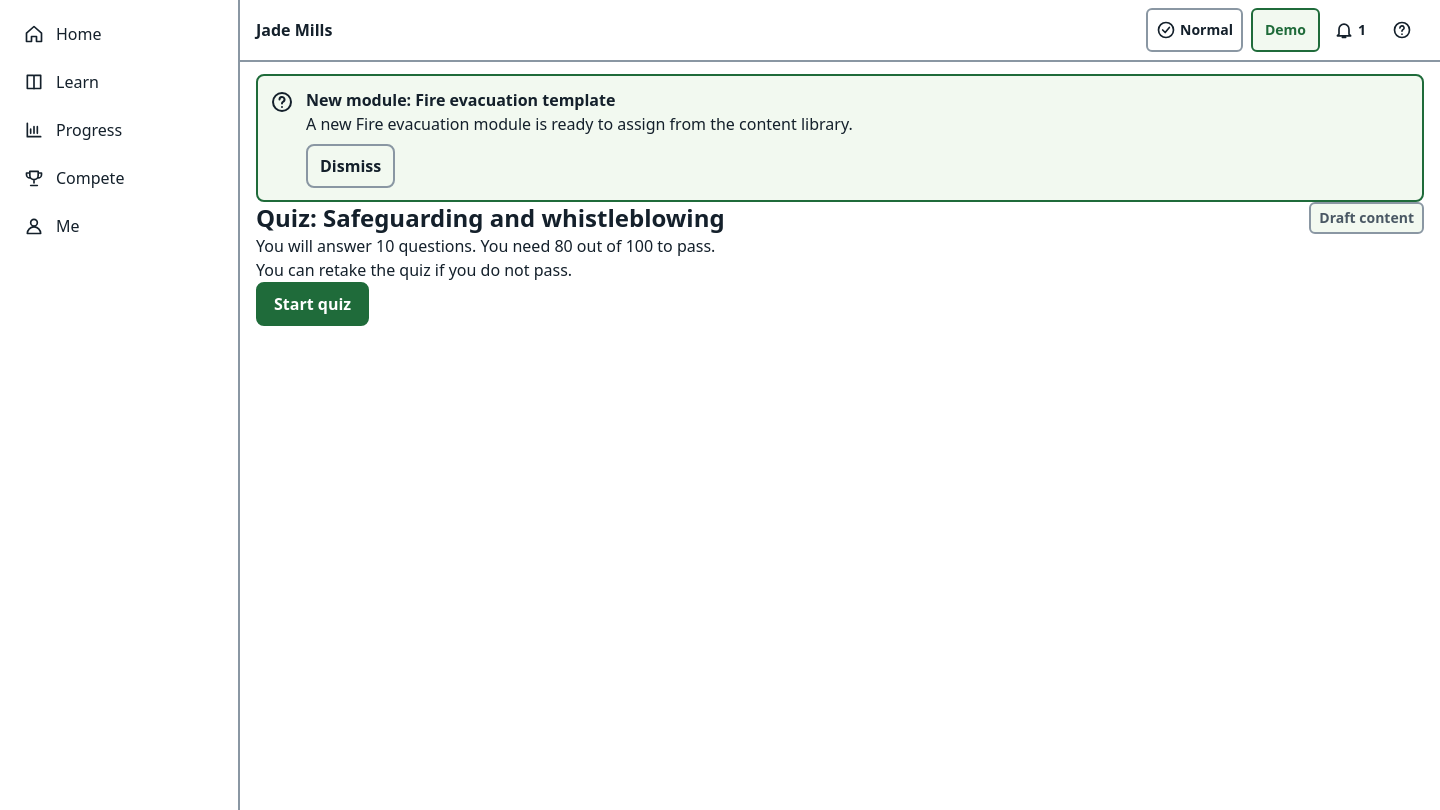
Test: S6 quiz › starts an attempt that draws 10 questions and shows Question 1 of 10 with the Draft content badge
The image size is (1440, 810).
Expected: the text "Draft content" is shown, [1309,202,1424,234]
Click the button "Start quiz" at (313, 304), box [256,282,369,326]
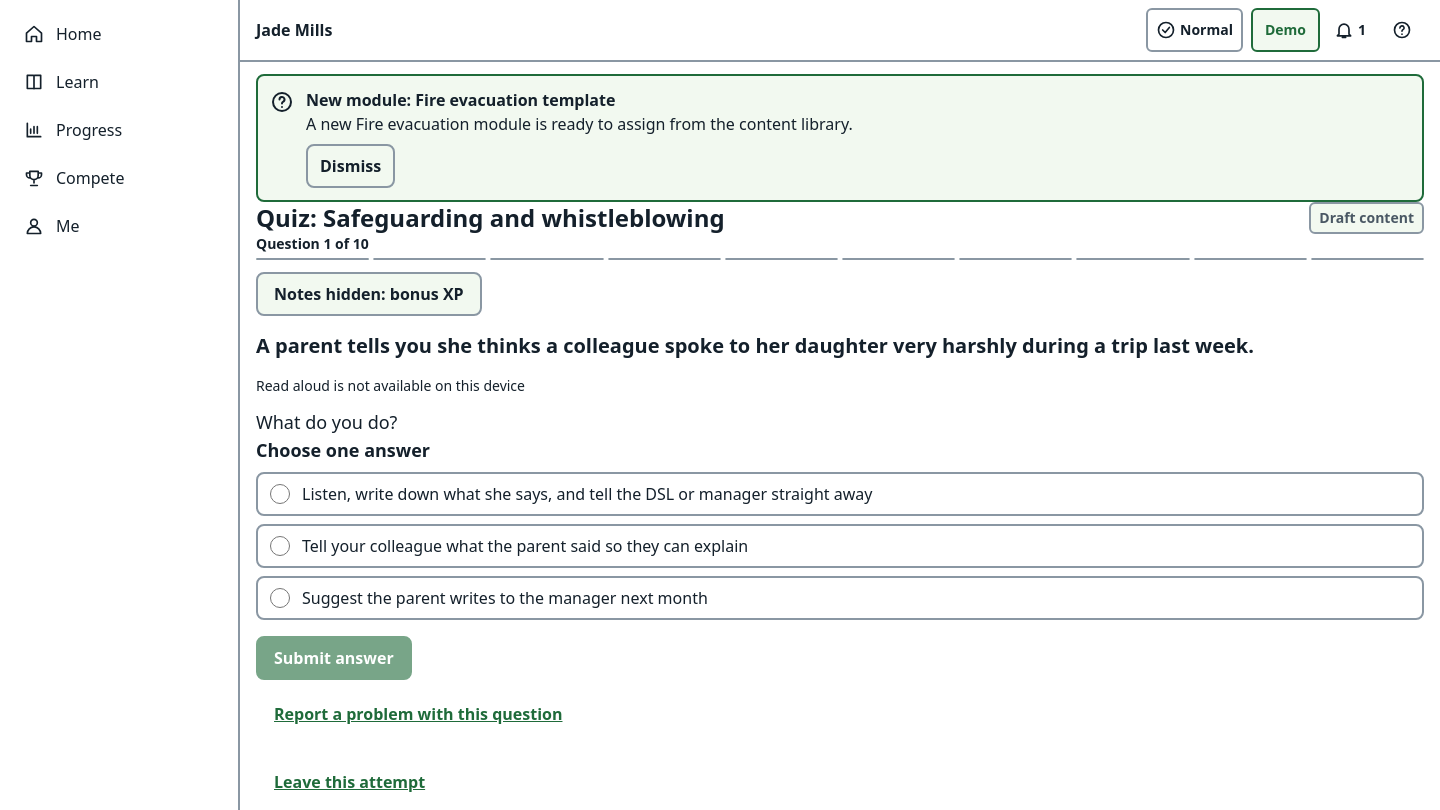
Expected: the text "Question 1 of 10" is shown, [256,234,369,253]
